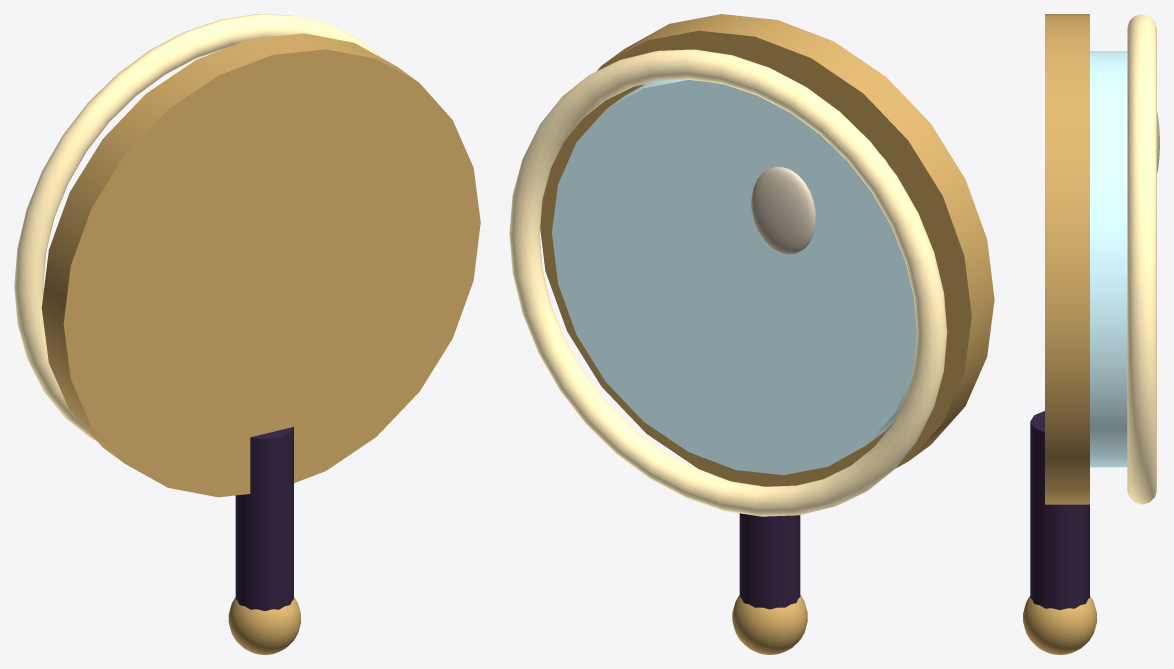
The model's file is mirror.glb.
3 views of the same model, side by side, from view 1: azimuth 30°, elevation 25°; view 2: azimuth 150°, elevation 25°; view 3: azimuth 270°, elevation 25° (orthographic). The views are drawn at different scales.
Visible parts, largest first — view 1: Frame, Bezel, Handle, HandleEnd; view 2: ReflectiveFace, Bezel, Frame, Handle, MirrorGlint, HandleEnd; view 3: Frame, ReflectiveFace, Bezel, Handle, HandleEnd.
Part boxes in pixels (x1,y1,x2,y2): Frame: [41, 33, 480, 497]; Bezel: [14, 14, 384, 441]; Handle: [235, 427, 293, 610]; HandleEnd: [228, 597, 300, 654]; ReflectiveFace: [552, 79, 916, 474]; Bezel: [509, 49, 947, 516]; Frame: [540, 14, 994, 486]; Handle: [739, 513, 800, 609]; MirrorGlint: [751, 166, 815, 254]; HandleEnd: [732, 595, 807, 654]; Frame: [1045, 14, 1089, 504]; ReflectiveFace: [1090, 51, 1127, 467]; Bezel: [1127, 14, 1156, 504]; Handle: [1030, 411, 1089, 609]; HandleEnd: [1023, 596, 1096, 654].
Size of the model in its own units: 0.066 by 0.091 by 0.0184.
